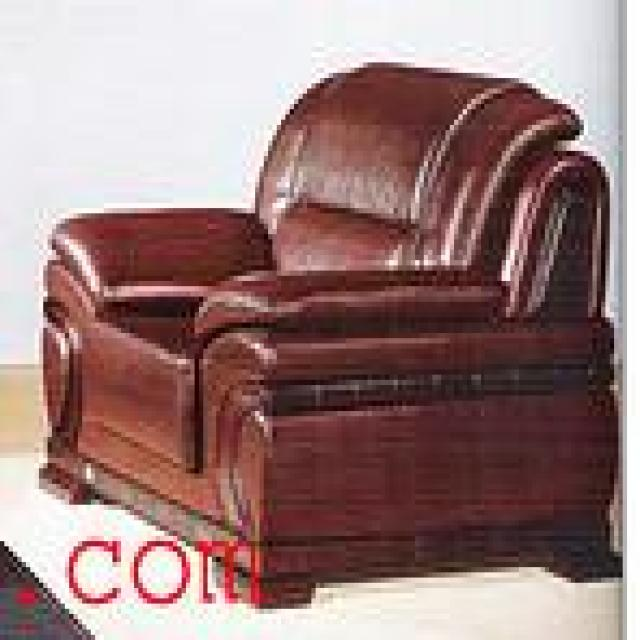sofa: (43, 59, 623, 611)
